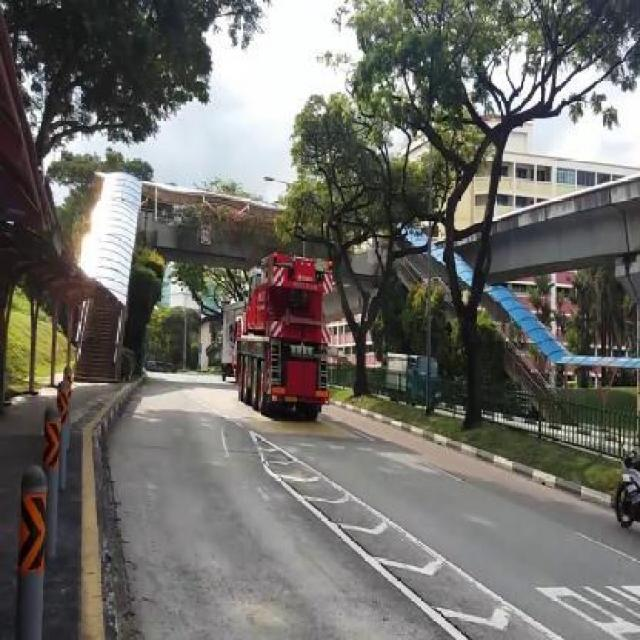Mobile Crane: (236, 255, 329, 418)
